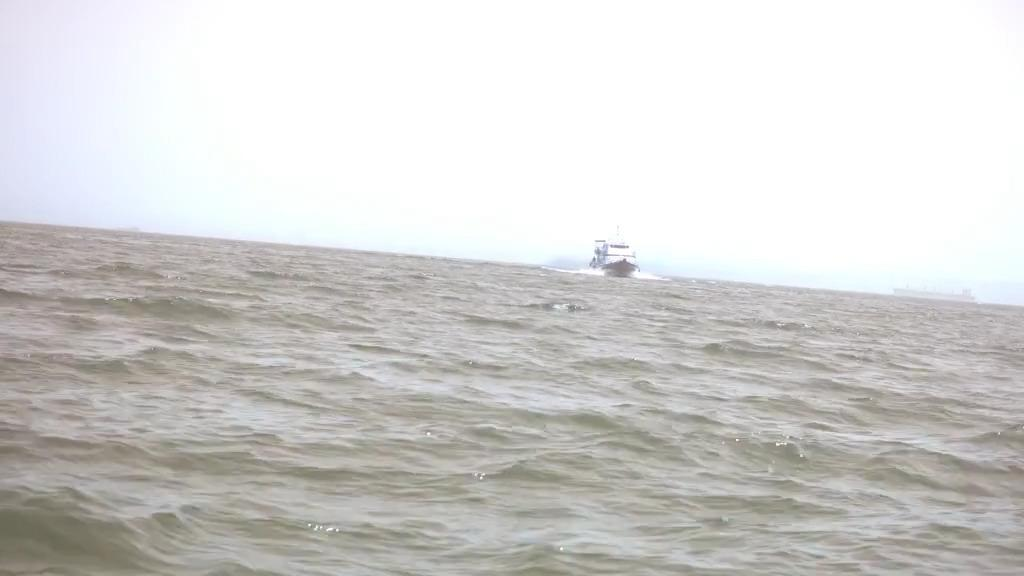PassengerShip: (588, 226, 642, 280)
